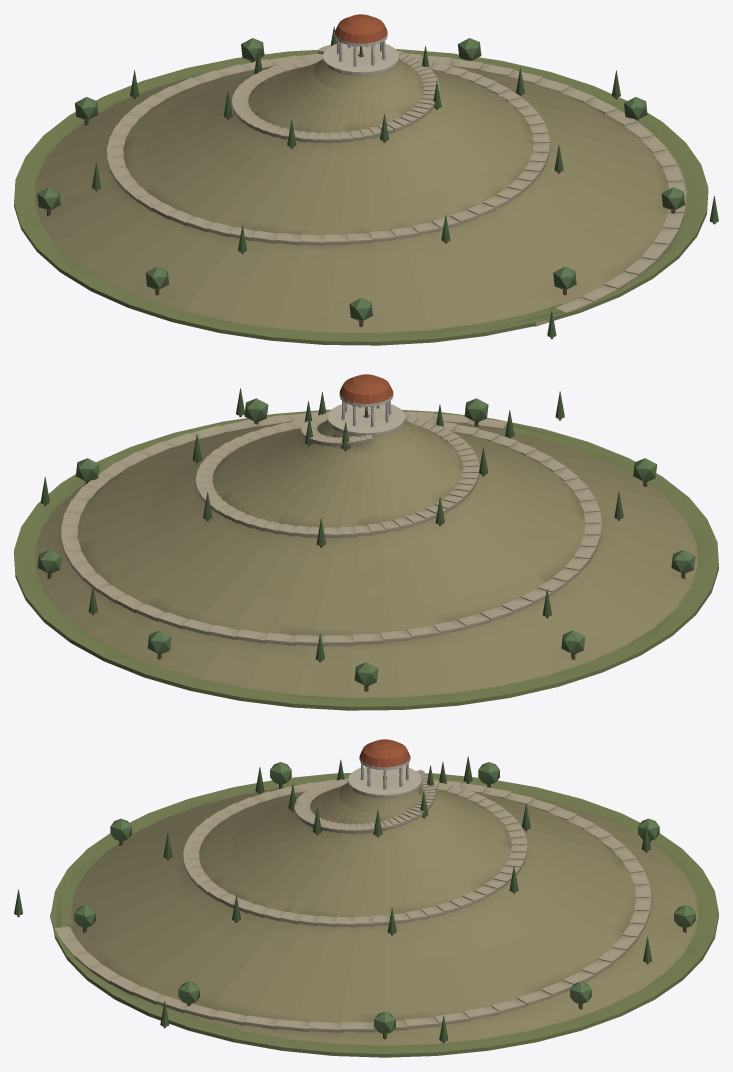
The model's file is paneion.glb.
3 renders of one model, top to bottom at view 1: azimuth 30°, elevation 25°; view 2: azimuth 150°, elevation 25°; view 3: azimuth 270°, elevation 25°, orthographic. The views are drawn at different scales.
Parts seen in each view (by area): view 1: p0_hill, p1_road, p2_shrine; view 2: p0_hill, p1_road, p2_shrine; view 3: p0_hill, p1_road, p2_shrine.
Boxes of the visible parts, bbox=[...] form: p0_hill: bbox=[14, 49, 708, 345]; p1_road: bbox=[37, 26, 718, 339]; p2_shrine: bbox=[323, 14, 399, 75]; p0_hill: bbox=[14, 409, 718, 710]; p1_road: bbox=[37, 388, 695, 691]; p2_shrine: bbox=[327, 374, 405, 436]; p0_hill: bbox=[51, 773, 718, 1057]; p1_road: bbox=[14, 756, 695, 1043]; p2_shrine: bbox=[348, 739, 421, 798].
Bounding box in the file's own units: 136 × 39.08 × 144.
